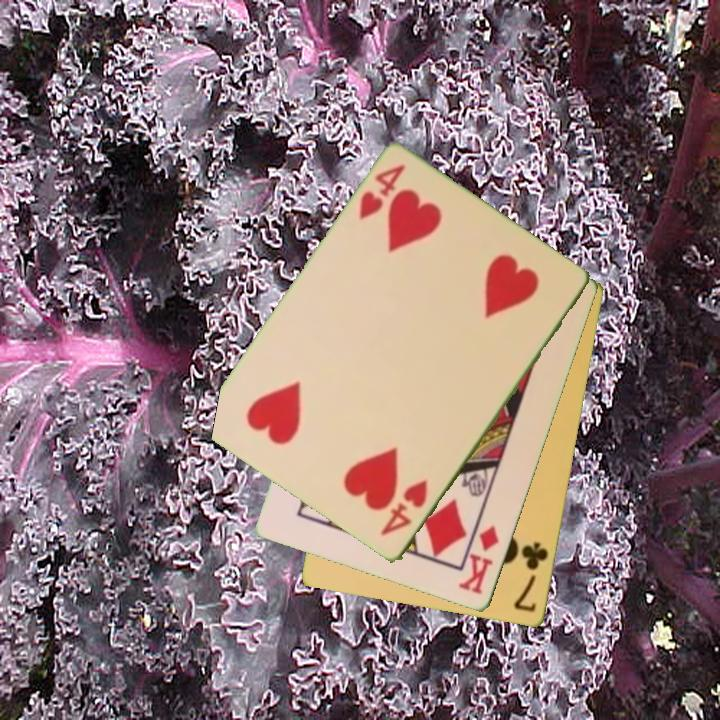4h: (377, 476, 431, 540), (355, 161, 408, 223)
7c: (511, 539, 552, 616)
Kd: (456, 522, 502, 598)
